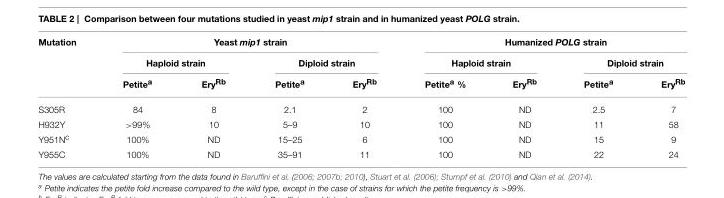table: (37, 37, 684, 158)
table column: (399, 37, 488, 158), (249, 37, 327, 158), (98, 37, 175, 158), (559, 37, 636, 158), (175, 37, 249, 158), (327, 37, 399, 158), (488, 37, 559, 158), (37, 37, 98, 158), (636, 37, 684, 158)
table column header: (37, 37, 684, 96)
table row: (37, 72, 684, 96), (37, 52, 684, 72), (37, 96, 684, 116), (37, 130, 684, 146), (37, 37, 684, 52), (37, 116, 684, 130), (37, 146, 684, 158)
table spanning cell: (98, 37, 399, 52), (399, 37, 684, 52), (37, 37, 98, 96), (399, 52, 559, 72), (98, 52, 249, 72), (249, 52, 399, 72), (559, 52, 684, 72)
